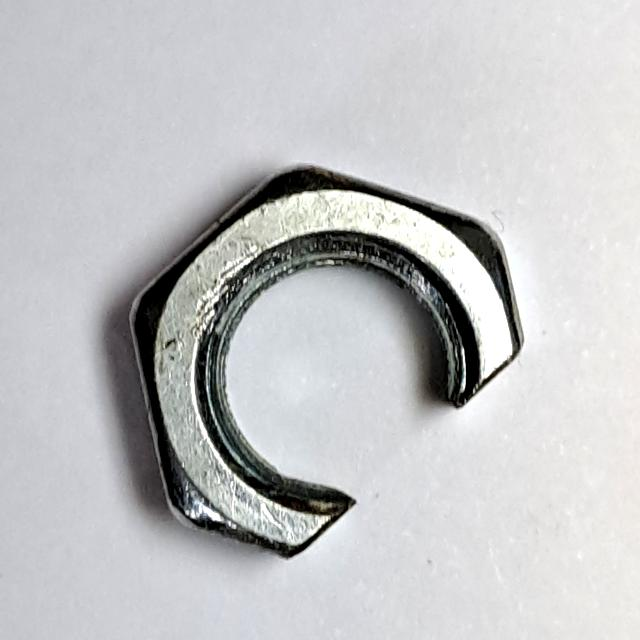Fracture: (113, 145, 542, 570)
